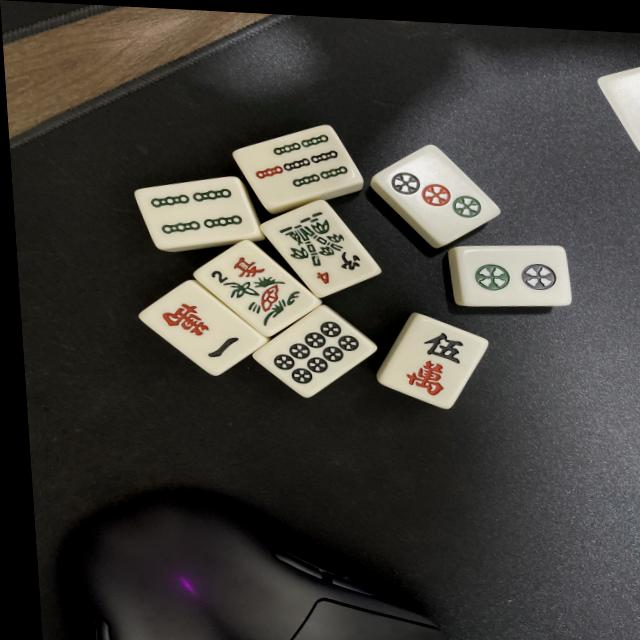f4: (268, 199, 385, 301)
ff2: (193, 241, 321, 341)
m1: (140, 277, 273, 383)
m5: (377, 314, 490, 416)
s4: (141, 177, 261, 253)
s7: (236, 122, 364, 216)
t2: (458, 244, 572, 314)
t3: (372, 140, 501, 248)
t8: (251, 305, 380, 410)
